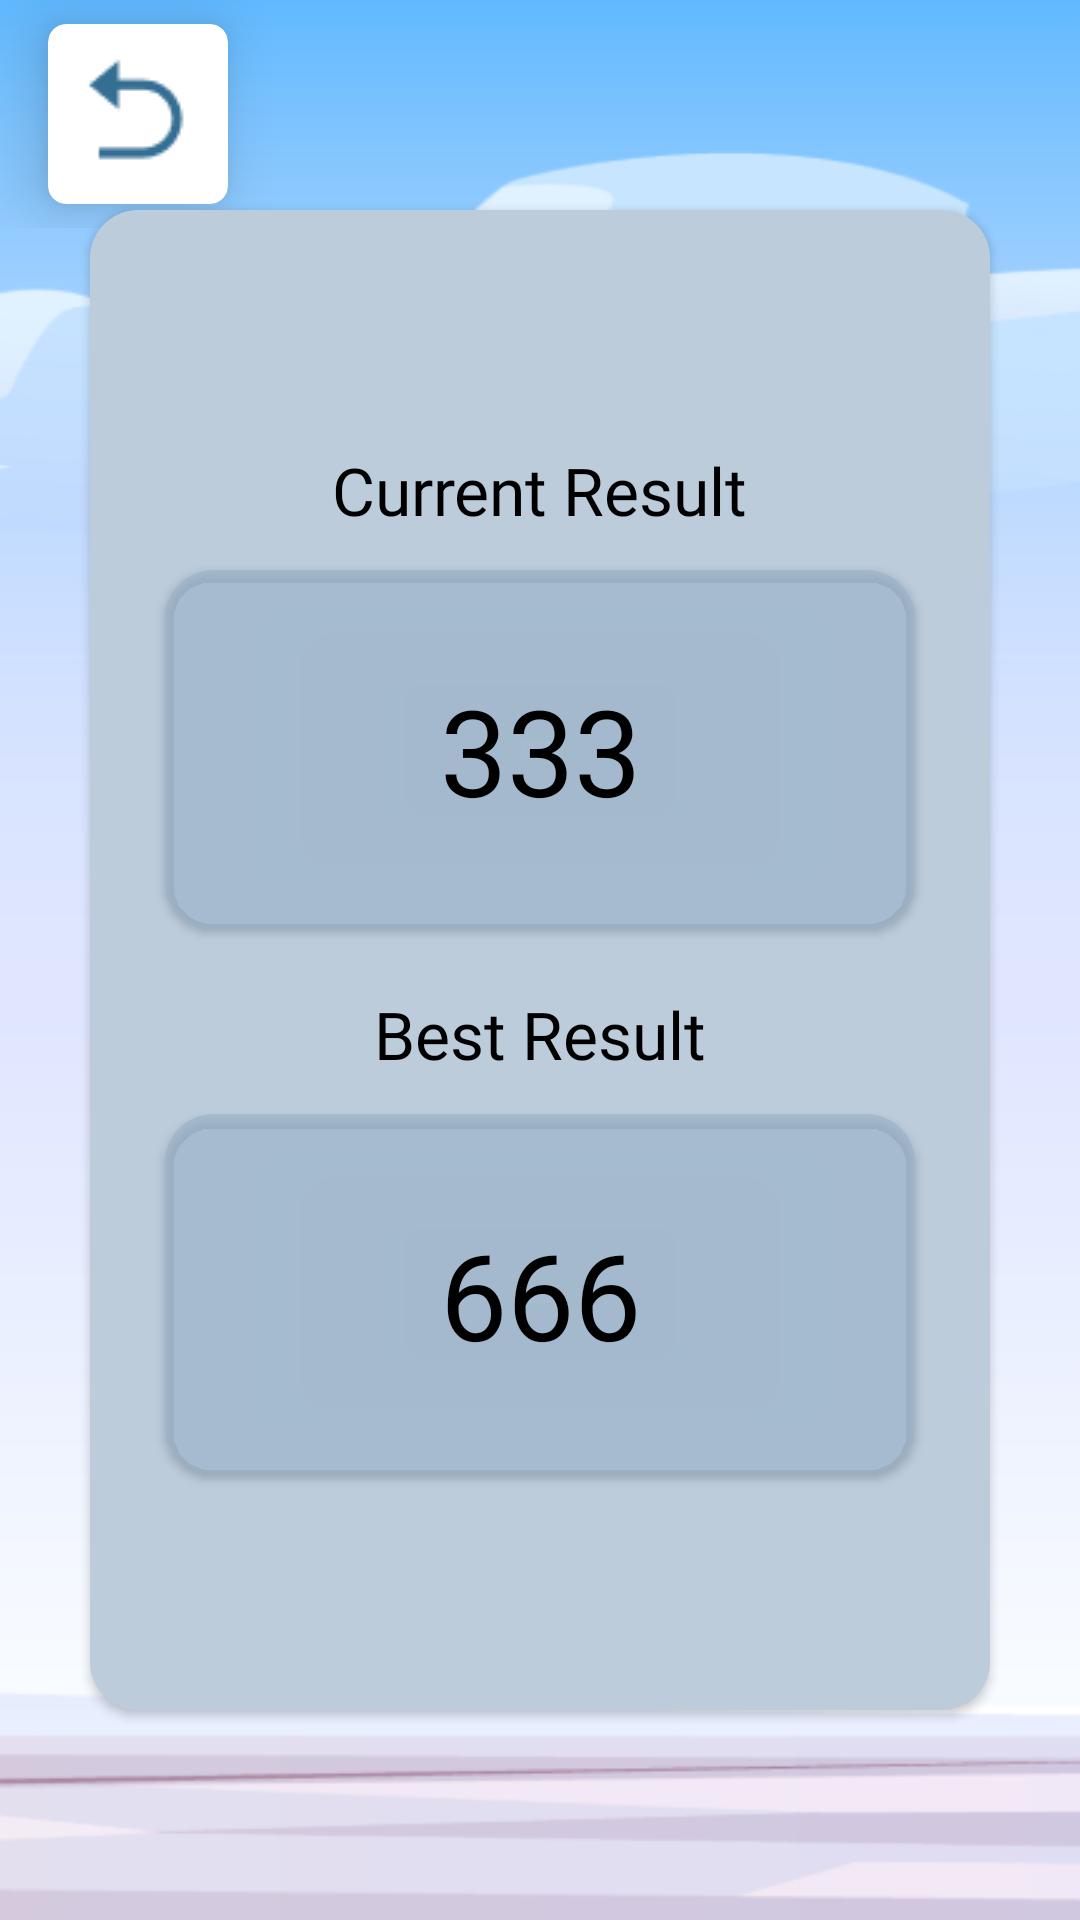

Screen size 1080x1920. Icon name, then its center in pixels as [x,y]:
back: [138,114]
